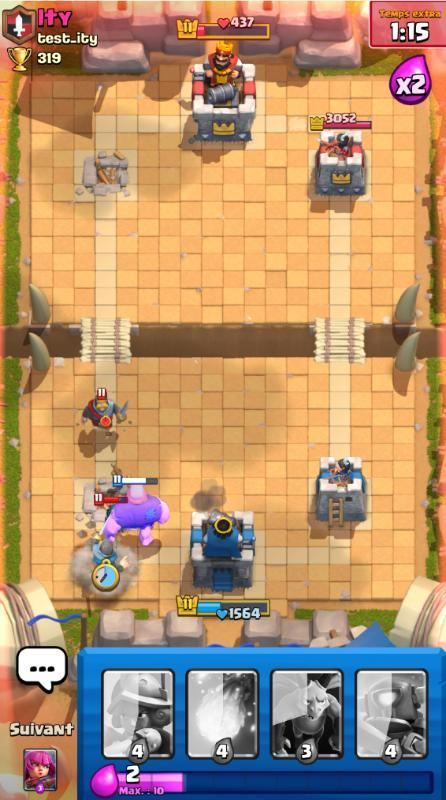chevalier: (91, 508, 131, 573), (82, 388, 127, 437)
geant: (104, 475, 170, 547)
mini_PEKKA: (94, 494, 128, 533)
